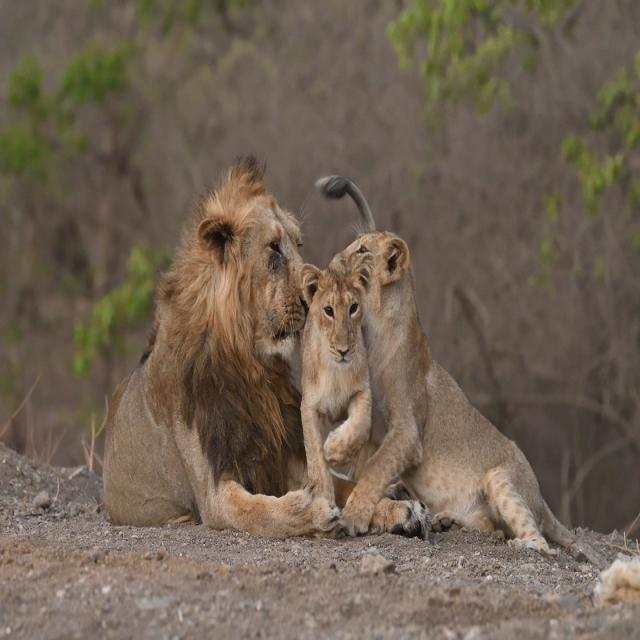Lion: (101, 154, 621, 573)
